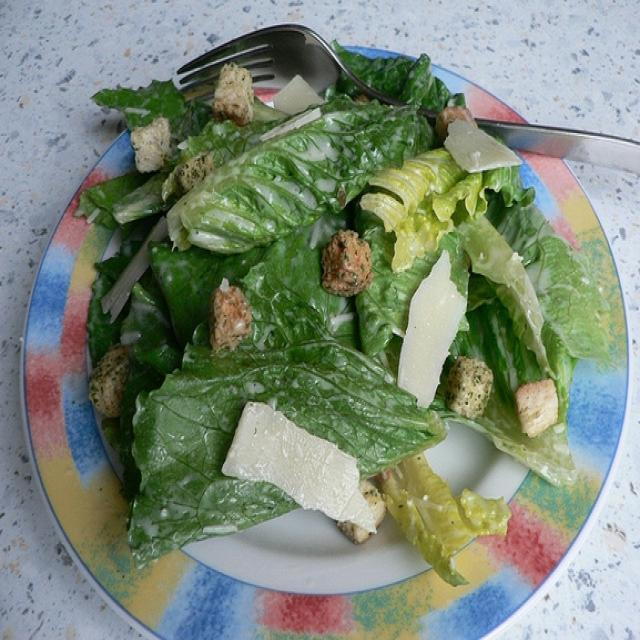蔬菜料理: (28, 28, 611, 618)
